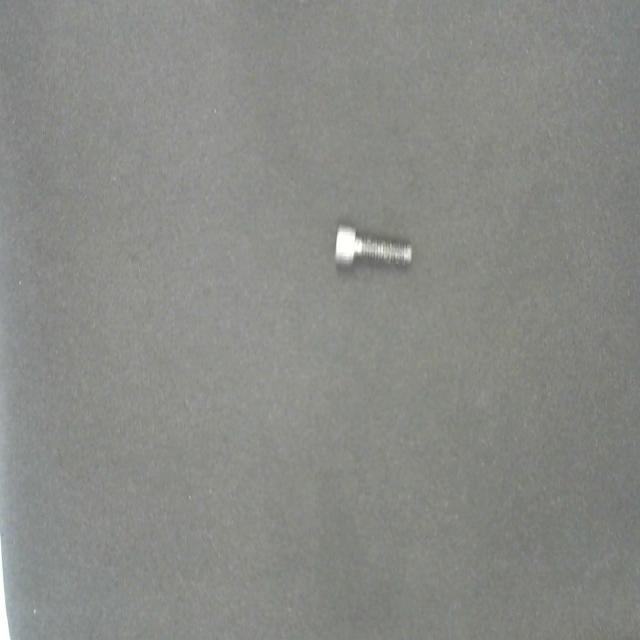SocketHeadCapScrew: (333, 222, 413, 270)
